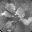people: (16, 6, 26, 18), (5, 2, 16, 12), (20, 17, 32, 26), (1, 10, 14, 18), (5, 20, 14, 28)
